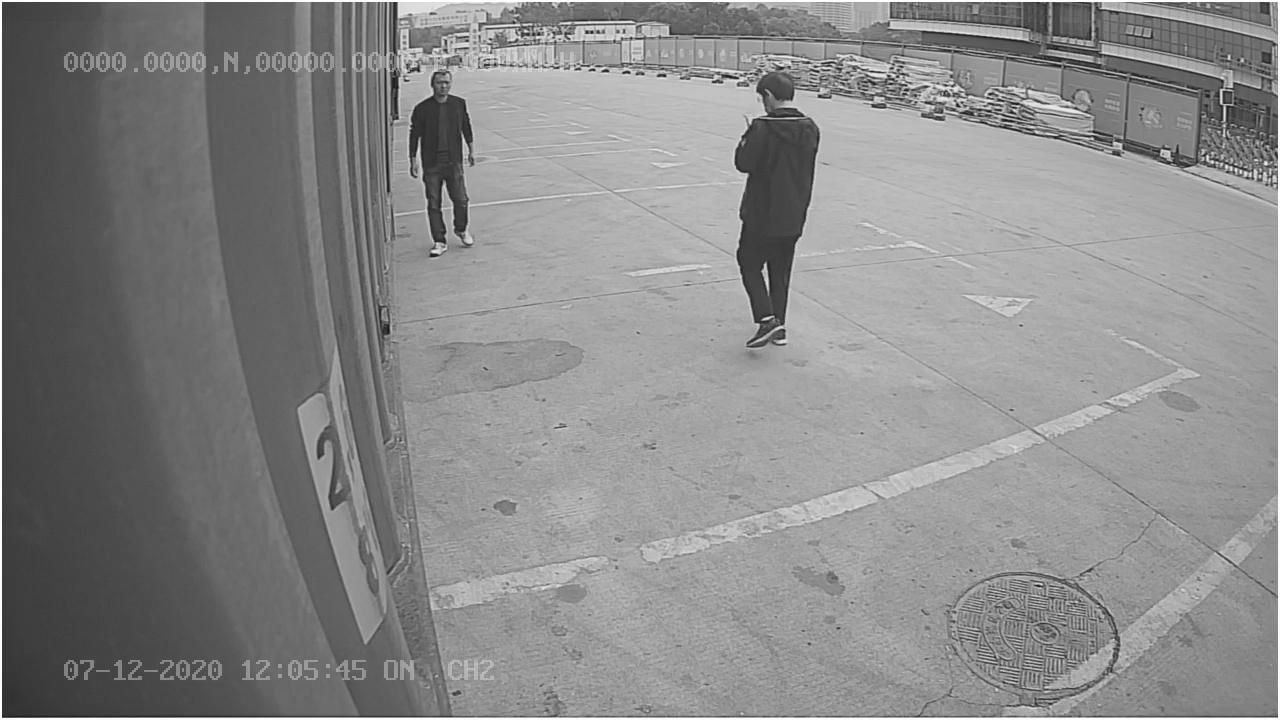person: (729, 70, 820, 351)
